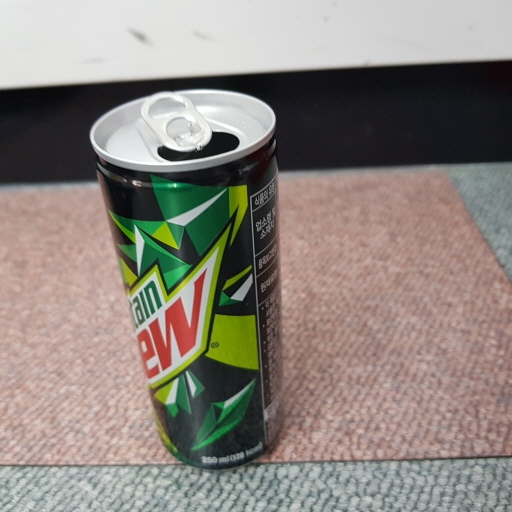Metal_0: (87, 88, 288, 470)
